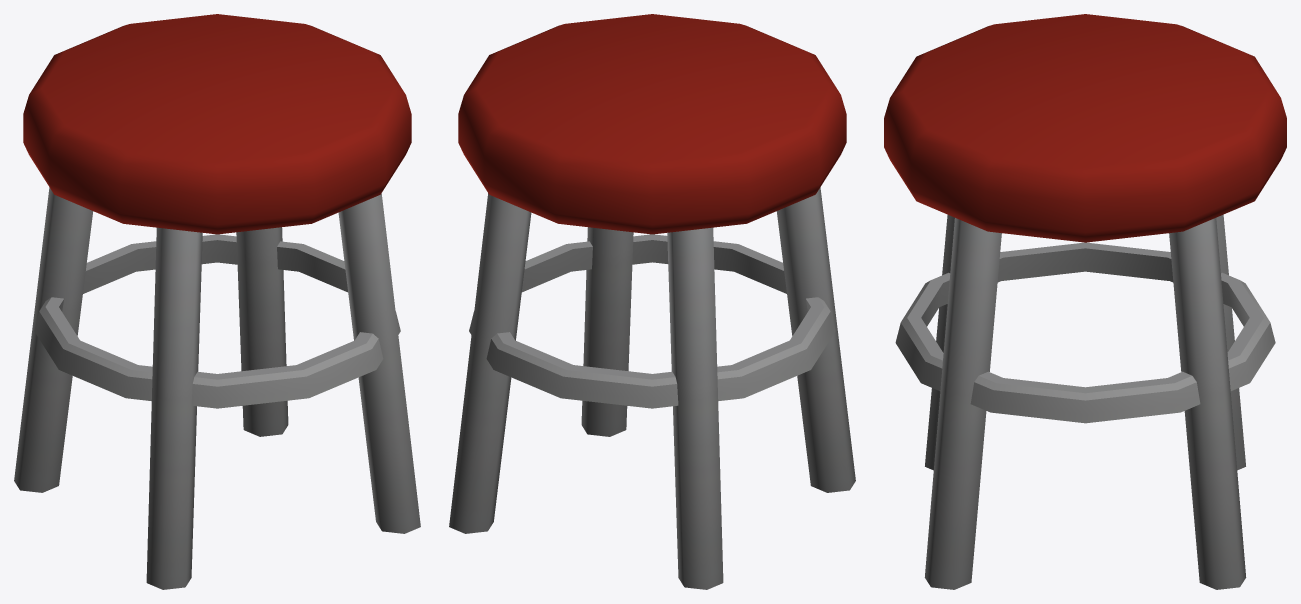
File: Chair_2_F.fbx
3 renders of one model, left to right at view 1: azimuth 30°, elevation 25°; view 2: azimuth 150°, elevation 25°; view 3: azimuth 270°, elevation 25°, orthographic. The views are drawn at different scales.
Visible parts, largest first — view 1: Chair_2_F; view 2: Chair_2_F; view 3: Chair_2_F.
Boxes of the visible parts, x1,y1,x2,y2 form: Chair_2_F: [14, 14, 420, 589]; Chair_2_F: [449, 14, 855, 589]; Chair_2_F: [884, 14, 1286, 589].
Bounding box in the file's own units: 50.02 × 59.1 × 50.04.
